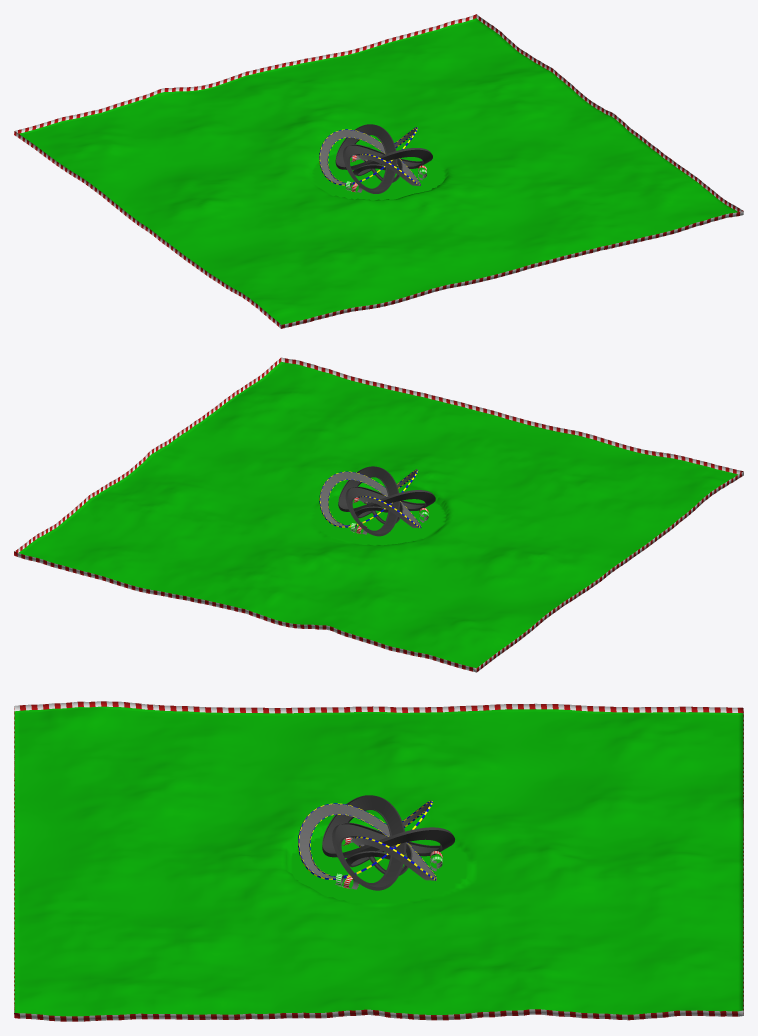
File: TESTES PISTA A.glb
3 renders of one model, top to bottom at view 1: azimuth 30°, elevation 25°; view 2: azimuth 150°, elevation 25°; view 3: azimuth 270°, elevation 25°, orthographic. The views are drawn at different scales.
Visible parts, largest first — view 1: Landscape.001, Pista.001 Subdividida X 3 Model A.002, Pista; view 2: Landscape.001, Pista.001 Subdividida X 3 Model A.002, Pista; view 3: Landscape.001, Pista.001 Subdividida X 3 Model A.002, Pista, Pista.001 Subdividida X 3 Model A.001.
Boxes of the visible parts, <box> form: Landscape.001: <box>14,14,743,328</box>; Pista.001 Subdividida X 3 Model A.002: <box>335,124,432,193</box>; Pista: <box>319,127,420,185</box>; Landscape.001: <box>14,357,743,672</box>; Pista.001 Subdividida X 3 Model A.002: <box>338,466,435,536</box>; Pista: <box>319,469,421,528</box>; Landscape.001: <box>14,701,743,1021</box>; Pista.001 Subdividida X 3 Model A.002: <box>322,795,454,890</box>; Pista: <box>298,800,436,880</box>; Pista.001 Subdividida X 3 Model A.001: <box>345,843,412,875</box>.
Size of the model in its own units: 5933 by 490 by 5934.
